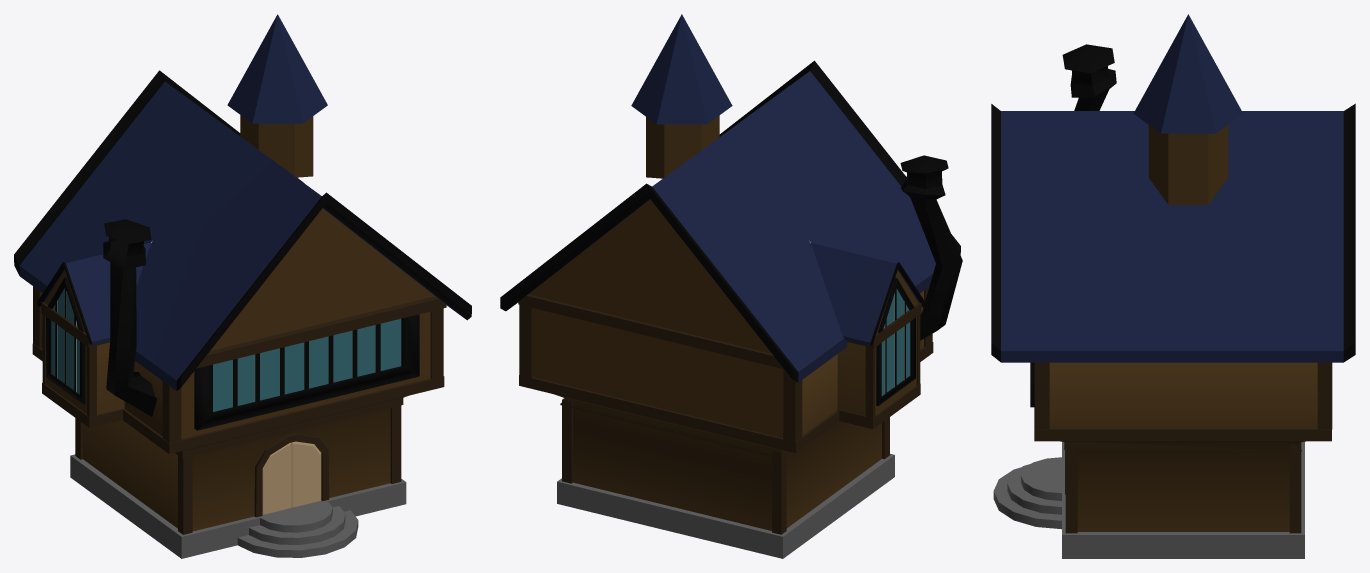
The model's file is House 2.fbx.
The picture shows the model from 3 angles, left to right: view 1: azimuth 30°, elevation 25°; view 2: azimuth 150°, elevation 25°; view 3: azimuth 270°, elevation 25°; orthographic projection. The views are drawn at different scales.
Visible parts, largest first — view 1: House; view 2: House; view 3: House.
Boxes of the visible parts, <box> form: House: <box>14,14,471,558</box>; House: <box>500,14,962,558</box>; House: <box>991,14,1355,558</box>.
Bounding box in the file's own units: 14.84 × 20.36 × 13.25.
